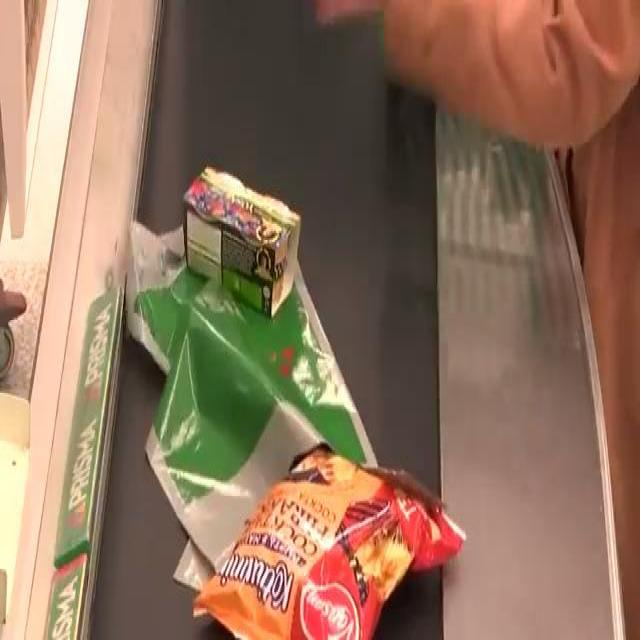food-box: (208, 444, 464, 636), (182, 179, 302, 313)
utility-box: (127, 217, 390, 539)
